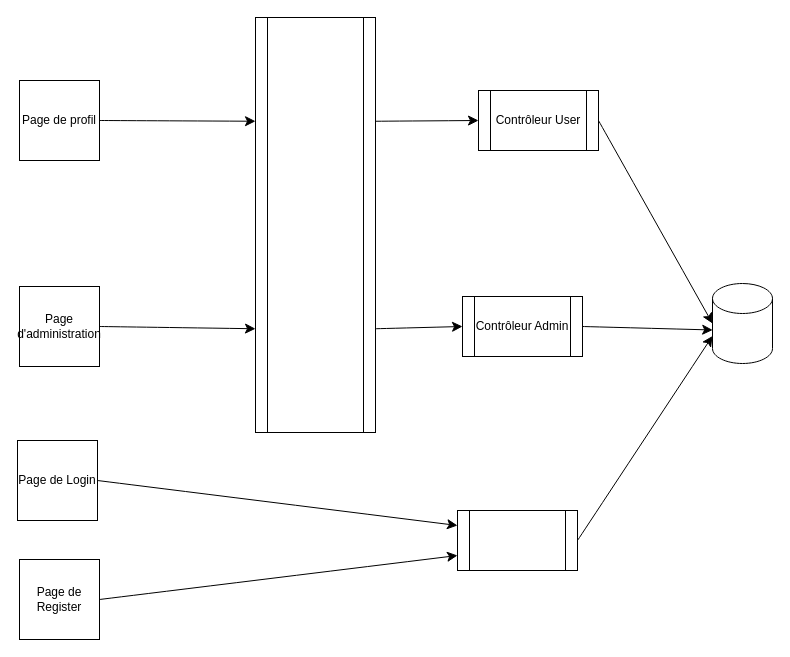
Image size: 790x657. Some labels were removed from this diagram. The centre of each missing label's shape, as x and y in pixels:
Contrôleur Authentification: (x=517, y=540)
DB: (x=742, y=323)
Middleware d'authenfication: (x=315, y=224)
